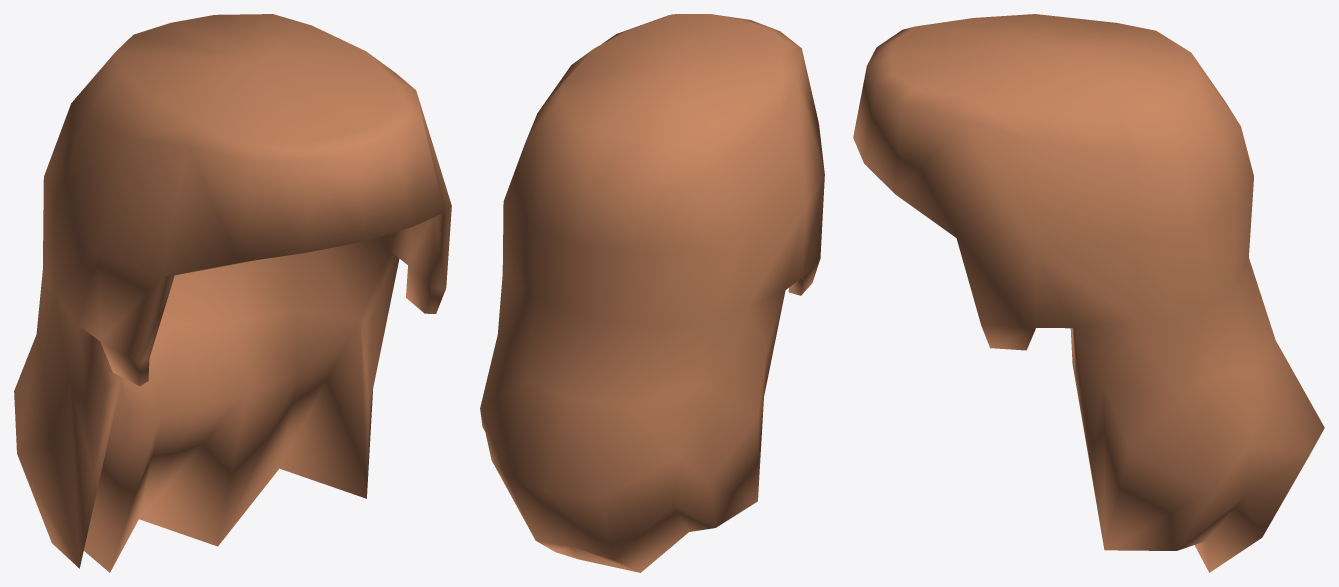
The model's file is Mullet.fbx.
The picture shows the model from 3 angles, left to right: view 1: azimuth 30°, elevation 25°; view 2: azimuth 150°, elevation 25°; view 3: azimuth 270°, elevation 25°; orthographic projection. The views are drawn at different scales.
Parts seen in each view (by area): view 1: 03 Hair - Mullet; view 2: 03 Hair - Mullet; view 3: 03 Hair - Mullet.
Part boxes in pixels (bbox=[...]): 03 Hair - Mullet: bbox=[14, 14, 451, 572]; 03 Hair - Mullet: bbox=[480, 14, 824, 572]; 03 Hair - Mullet: bbox=[853, 14, 1324, 572].
Size of the model in its own units: 0.2147 by 0.3516 by 0.2997.
